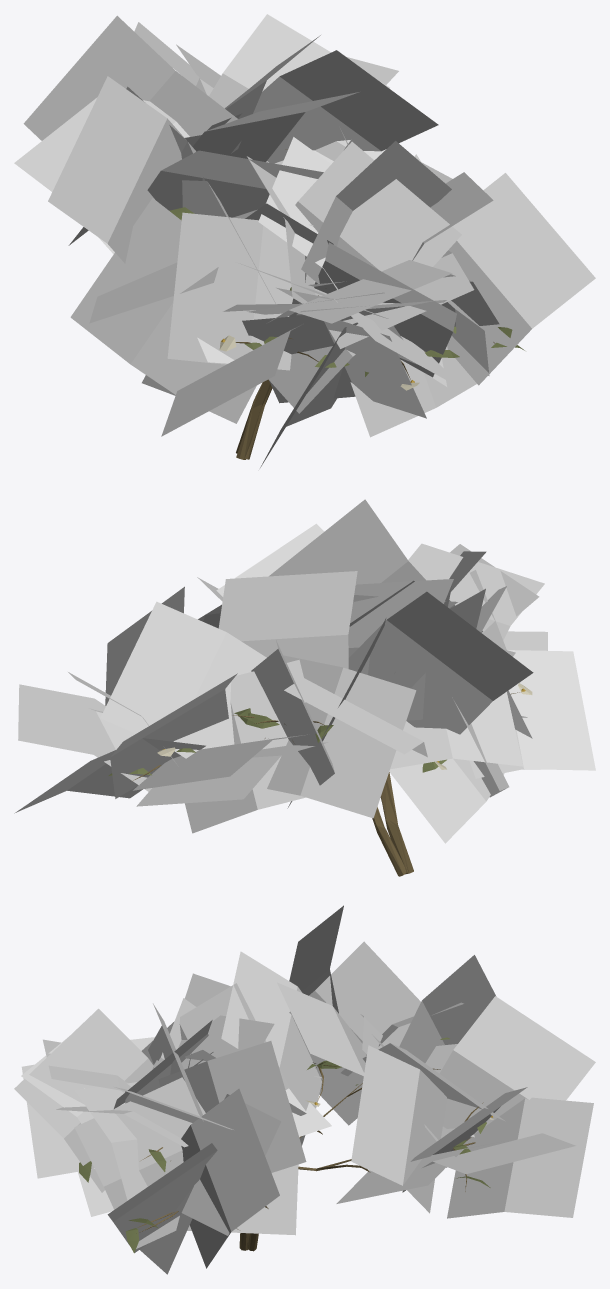
The model's file is Ciste_Incline_LOD2.fbx.
The picture shows the model from 3 angles, top to bottom: view 1: azimuth 30°, elevation 25°; view 2: azimuth 150°, elevation 25°; view 3: azimuth 270°, elevation 25°; orthographic projection. The views are drawn at different scales.
Visible parts, largest first — view 1: Ciste_Incline_LOD2; view 2: Ciste_Incline_LOD2; view 3: Ciste_Incline_LOD2.
Boxes of the visible parts, box(x1,y1,x2,y2) form: Ciste_Incline_LOD2: box(14, 14, 595, 467); Ciste_Incline_LOD2: box(14, 499, 595, 876); Ciste_Incline_LOD2: box(14, 905, 595, 1274).
Size of the model in its own units: 148 by 113 by 192.
